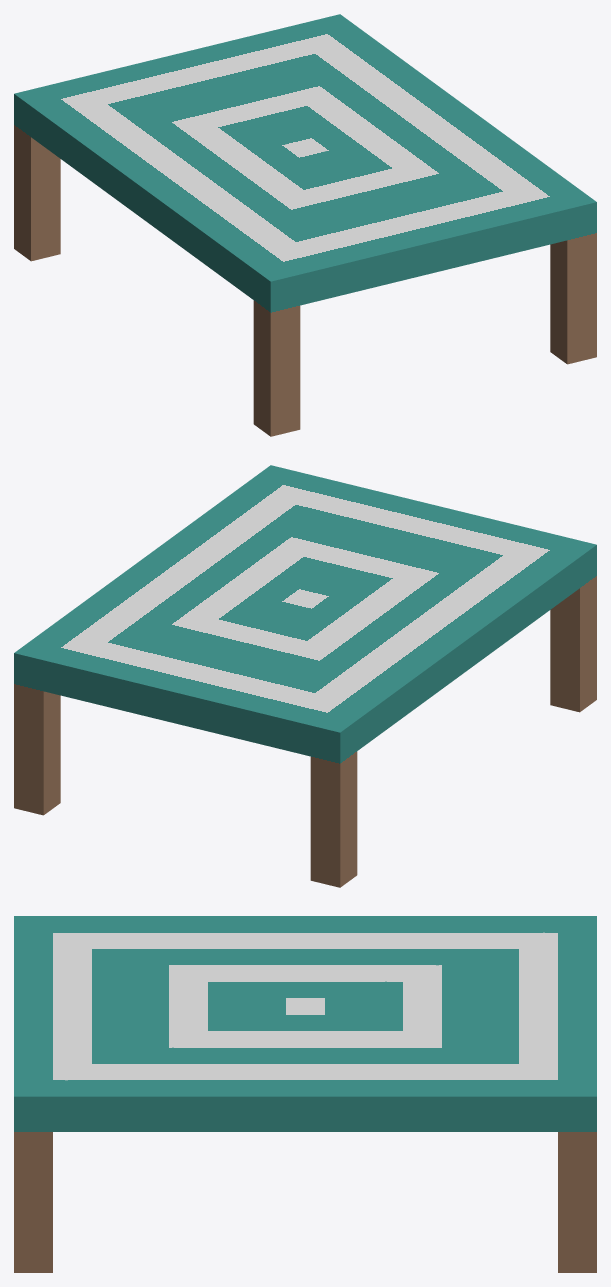
Rendered from miz.dae.
3 views of the same model, one above another, from view 1: azimuth 30°, elevation 25°; view 2: azimuth 150°, elevation 25°; view 3: azimuth 270°, elevation 25° (orthographic). The views are drawn at different scales.
Visible parts, largest first — view 1: miz; view 2: miz; view 3: miz.
Boxes of the visible parts, x1,y1,x2,y2 form: miz: [14, 14, 596, 436]; miz: [14, 465, 596, 887]; miz: [14, 916, 596, 1272].
Size of the model in its own units: 1.1 by 1.5 by 0.5.
1 material, 1 textured.
